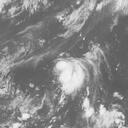cyclone: (53, 56, 90, 97)
